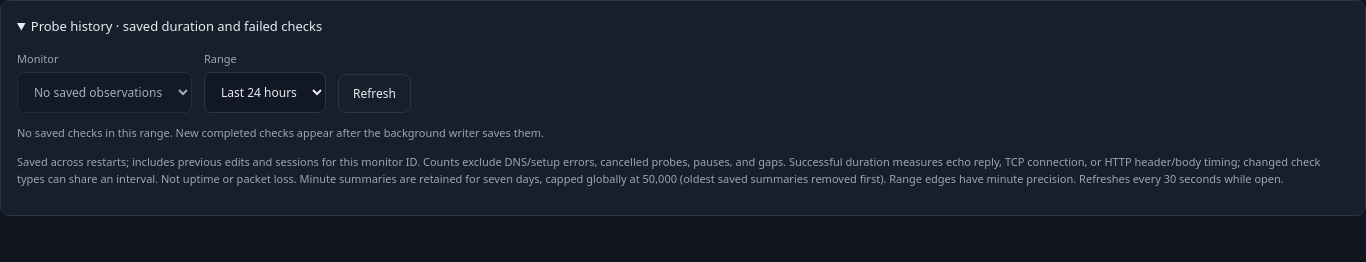
saved probe history › distinguishes empty observations from unavailable storage
Expected: the text "No saved checks in this range" is shown, [17, 125, 544, 140]
Click the button "Refresh": (374,94) [338, 74, 411, 113]
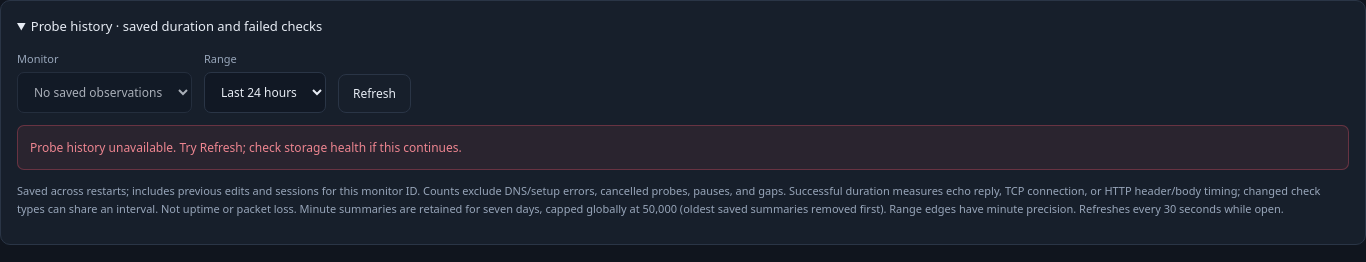
Expected: the message shows "Probe history unavailable", [30, 139, 462, 156]
